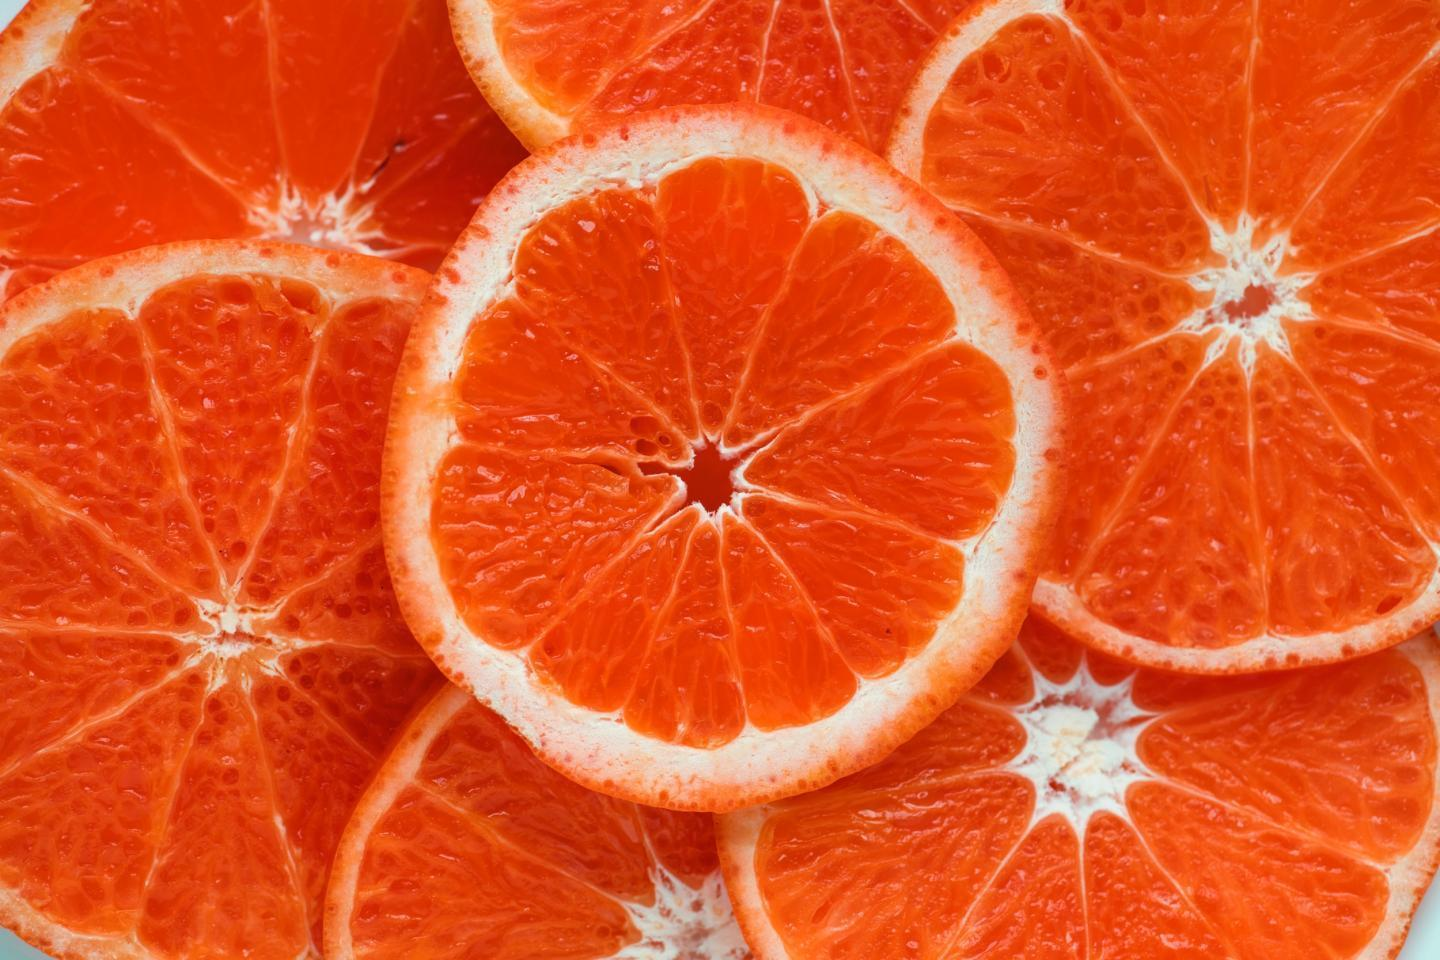orange: (354, 88, 1057, 837), (899, 12, 1440, 726), (6, 222, 464, 951), (732, 605, 1404, 960)
